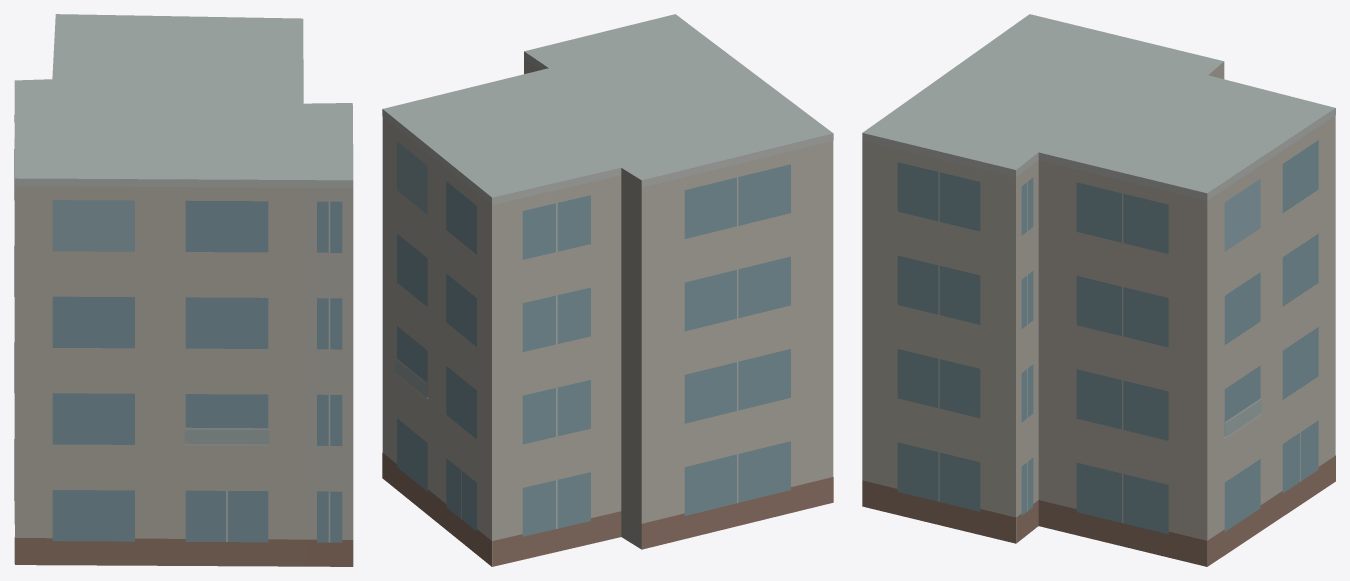
File: survey-upis-32586987.glb
3 views of the same model, side by side, from view 1: azimuth 30°, elevation 25°; view 2: azimuth 150°, elevation 25°; view 3: azimuth 270°, elevation 25° (orthographic). The views are drawn at different scales.
Parts seen in each view (by area): view 1: survey-upis-32586987.tmp; view 2: survey-upis-32586987.tmp; view 3: survey-upis-32586987.tmp.
Boxes of the visible parts, left/top/right/bottom form: survey-upis-32586987.tmp: left=14, top=14, right=353, bottom=566; survey-upis-32586987.tmp: left=382, top=14, right=833, bottom=566; survey-upis-32586987.tmp: left=862, top=14, right=1335, bottom=566.
Size of the model in its own units: 12.57 by 12.2 by 14.02.
